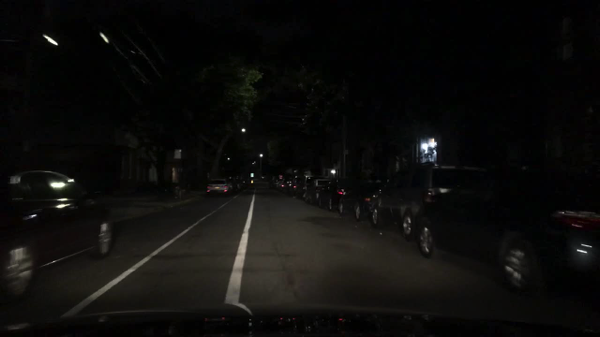car: (413, 162, 599, 294), (0, 169, 115, 305), (367, 161, 491, 242), (337, 179, 388, 221), (315, 176, 351, 211), (302, 176, 331, 204), (296, 176, 324, 203), (205, 177, 231, 199), (285, 174, 304, 196), (280, 176, 294, 191), (226, 174, 236, 191), (275, 176, 289, 188), (234, 174, 245, 188), (270, 176, 280, 186), (239, 176, 248, 185)
